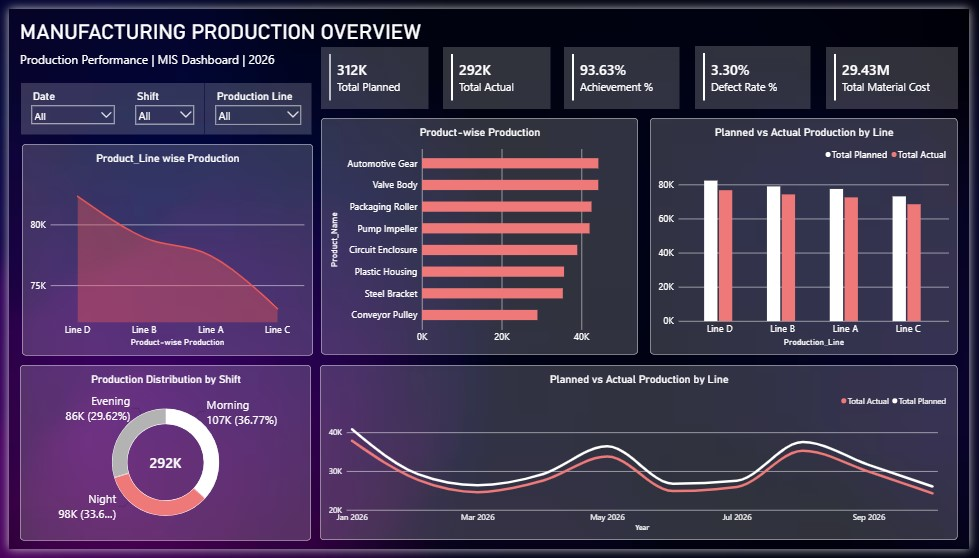

Layout of this report page (visuals, bound fields, positions):
{"tool":"powerbi","page":{"name":"Production Overview","canvas":[1920,1080],"ordinal":0},"visuals":[{"type":"textbox","title":"MANUFACTURING PRODUCTION OVERVIEW","box":[22.5,20,812,112],"z":0},{"type":"cardVisual","fields":{"Data":["manufacturing_mis.Total Planned"]},"box":[623.5,76.4,214.7,123.9],"z":1000},{"type":"cardVisual","fields":{"Data":["manufacturing_mis.Total Actual"]},"box":[867.1,76.4,214.7,123.9],"z":2000},{"type":"cardVisual","fields":{"Data":["manufacturing_mis.Achievement %"]},"box":[1110.7,76.4,231.2,123.9],"z":3000},{"type":"cardVisual","fields":{"Data":["manufacturing_mis.Defect Rate %"]},"box":[1372.9,74.3,231.2,125.9],"z":4000},{"type":"clusteredColumnChart","title":"Planned vs Actual Production by Line","fields":{"Category":["manufacturing_mis.Production_Line"],"Y":["manufacturing_mis.Total Planned","manufacturing_mis.Total Actual"]},"box":[1282.1,218.8,615.2,472.8],"z":5000},{"type":"lineChart","title":"Planned vs Actual Production by Line","fields":{"Category":["manufacturing_mis.Production_Date.Variation.Date Hierarchy.Year","manufacturing_mis.Production_Date.Variation.Date Hierarchy.Month"],"Y":["manufacturing_mis.Total Actual","manufacturing_mis.Total Planned"]},"box":[622.5,712.5,1275,350],"z":6000},{"type":"donutChart","title":"Production Distribution by Shift","fields":{"Category":["manufacturing_mis.Shift"],"Y":["manufacturing_mis.Total Actual"]},"box":[22.7,712.3,582.2,351],"z":7000},{"type":"clusteredBarChart","title":"Product-wise Production","fields":{"Category":["manufacturing_mis.Product_Name"],"Y":["manufacturing_mis.Total Planned"]},"box":[623.5,218.8,633.8,472.8],"z":8000},{"type":"slicer","fields":{"Values":["manufacturing_mis.Production_Date.Variation.Date Hierarchy.Year","manufacturing_mis.Production_Date.Variation.Date Hierarchy.Month"]},"box":[24.8,148.6,207.5,102.5],"z":9000},{"type":"slicer","fields":{"Values":["manufacturing_mis.Production_Line"]},"box":[391.9,148.1,213.1,102.9],"z":10000},{"type":"slicer","fields":{"Values":["manufacturing_mis.Product_Name"]},"box":[233,148.1,158.9,102.9],"z":11000},{"type":"areaChart","title":"Product_Line wise Production","fields":{"Category":["manufacturing_mis.Production_Line"],"Y":["manufacturing_mis.Total Planned"]},"box":[25.3,269.1,581.5,422.6],"z":12000},{"type":"cardVisual","fields":{"Data":["manufacturing_mis.Total Material Cost"]},"box":[1633,76.4,264.3,123.9],"z":13000}]}

Visuals, with their boxes in screenshot pixels (x1, y1, x2, y2), scaled from the page's 1920x1080 canvas onto the 979x558 screenshot:
"MANUFACTURING PRODUCTION OVERVIEW" textbox: select_region(11, 10, 426, 68)
cardVisual - manufacturing_mis.Total Planned: select_region(318, 39, 427, 103)
cardVisual - manufacturing_mis.Total Actual: select_region(442, 39, 552, 103)
cardVisual - manufacturing_mis.Achievement %: select_region(566, 39, 684, 103)
cardVisual - manufacturing_mis.Defect Rate %: select_region(700, 38, 818, 103)
"Planned vs Actual Production by Line" clusteredColumnChart: select_region(654, 113, 967, 357)
"Planned vs Actual Production by Line" lineChart: select_region(317, 368, 968, 549)
"Production Distribution by Shift" donutChart: select_region(12, 368, 308, 549)
"Product-wise Production" clusteredBarChart: select_region(318, 113, 641, 357)
slicer - manufacturing_mis.Production_Date.Variation.Date Hierarchy.Year x manufacturing_mis.Production_Date.Variation.Date Hierarchy.Month: select_region(13, 77, 118, 130)
slicer - manufacturing_mis.Production_Line: select_region(200, 77, 308, 130)
slicer - manufacturing_mis.Product_Name: select_region(119, 77, 200, 130)
"Product_Line wise Production" areaChart: select_region(13, 139, 309, 357)
cardVisual - manufacturing_mis.Total Material Cost: select_region(833, 39, 967, 103)
